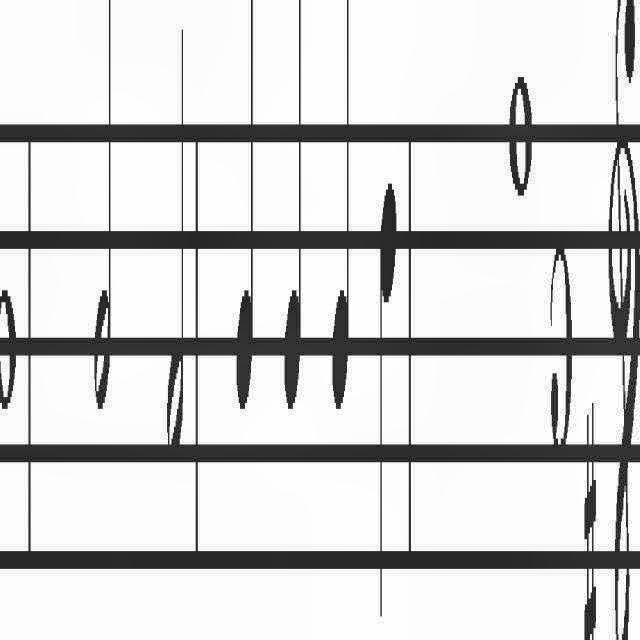Bass-clef: (607, 0, 640, 640), (639, 0, 640, 640)
Diez: (584, 396, 598, 640)
Full-note: (508, 68, 532, 208), (0, 285, 18, 427)
Half-note: (166, 14, 186, 473), (92, 1, 112, 440)
Quarter-note: (331, 0, 352, 444), (378, 178, 398, 640), (281, 0, 302, 420), (236, 1, 256, 416)
